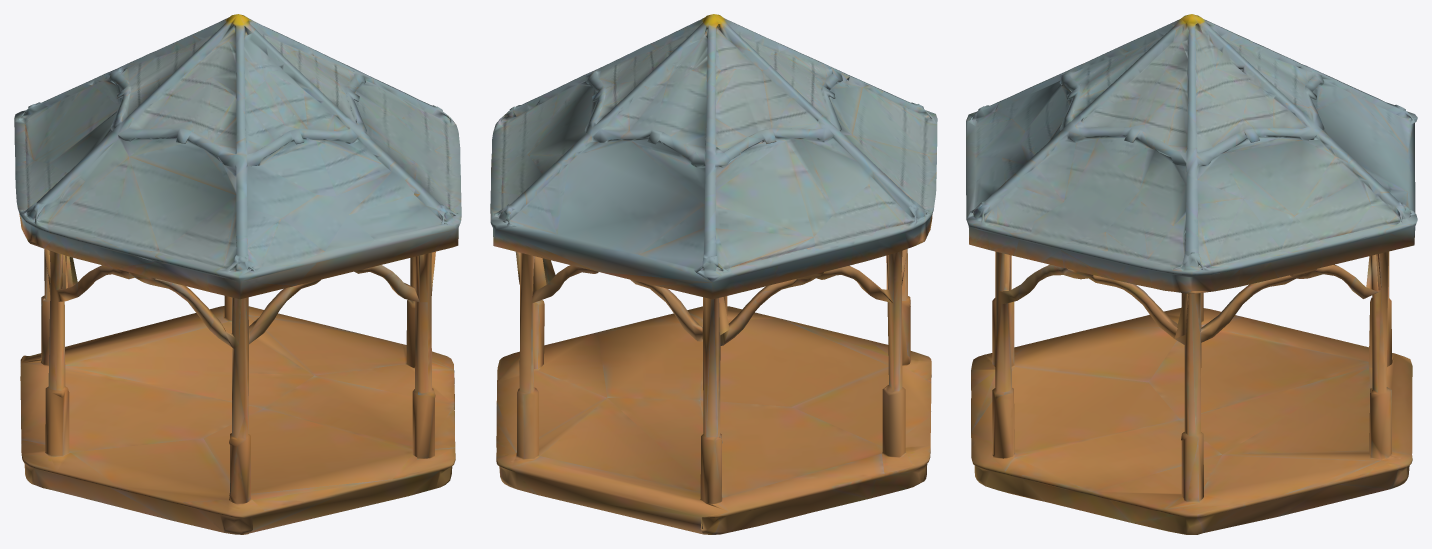
File: gazebo.glb
3 views of the same model, side by side, from view 1: azimuth 30°, elevation 25°; view 2: azimuth 150°, elevation 25°; view 3: azimuth 270°, elevation 25° (orthographic).
Bounding box in the file's own units: 1.91 × 1.8 × 1.76.
Materials: 1 (1 with a texture image).
